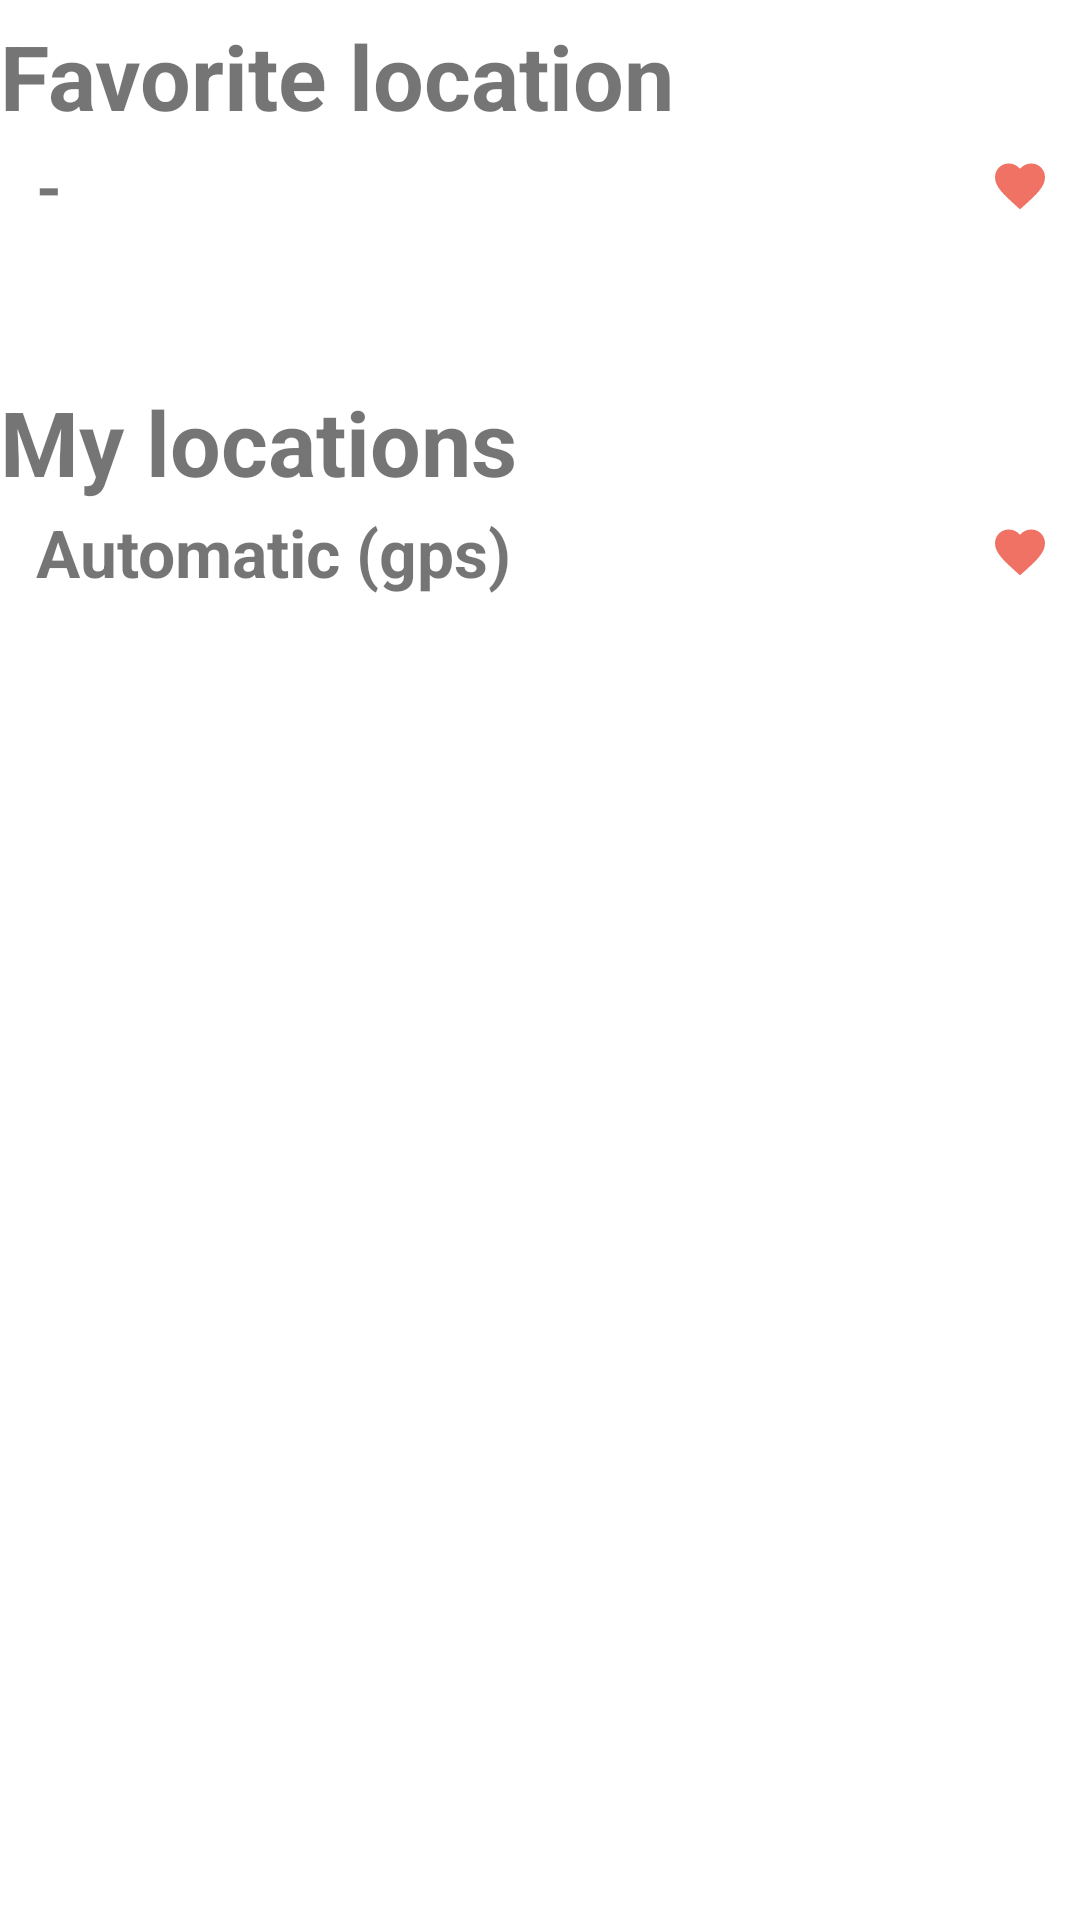

Where icons sit on this 1080w x 1920h app screen, as (x1, y1, x2, y2):
favorite on: (995, 163, 1045, 209), (995, 529, 1045, 575)
